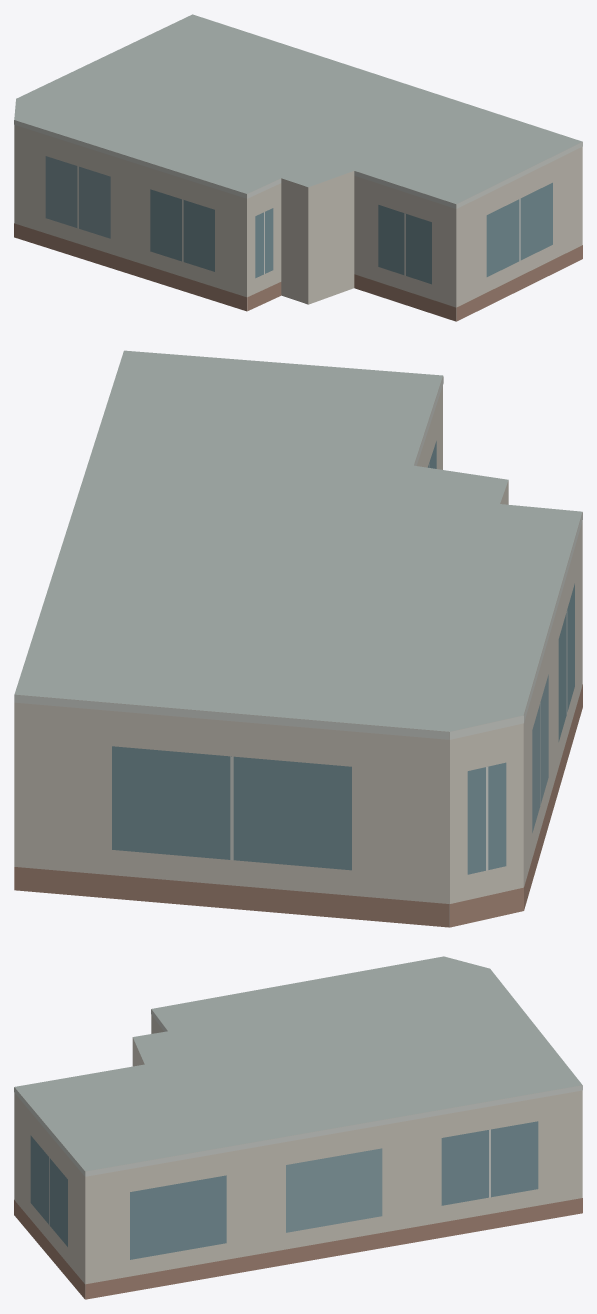
Rendered from survey-upis-32618702.glb.
3 views of the same model, one above another, from view 1: azimuth 30°, elevation 25°; view 2: azimuth 150°, elevation 25°; view 3: azimuth 270°, elevation 25° (orthographic). The views are drawn at different scales.
Parts seen in each view (by area): view 1: survey-upis-32618702.tmp; view 2: survey-upis-32618702.tmp; view 3: survey-upis-32618702.tmp.
Boxes of the visible parts, x1=… form: survey-upis-32618702.tmp: x1=14, y1=14, x2=582, y2=321; survey-upis-32618702.tmp: x1=14, y1=350, x2=582, y2=927; survey-upis-32618702.tmp: x1=14, y1=956, x2=582, y2=1299.
Size of the model in its own units: 11.01 by 3.05 by 12.29.
